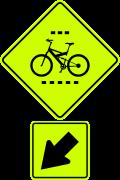Cycle Crossing: (9, 4, 115, 180)
